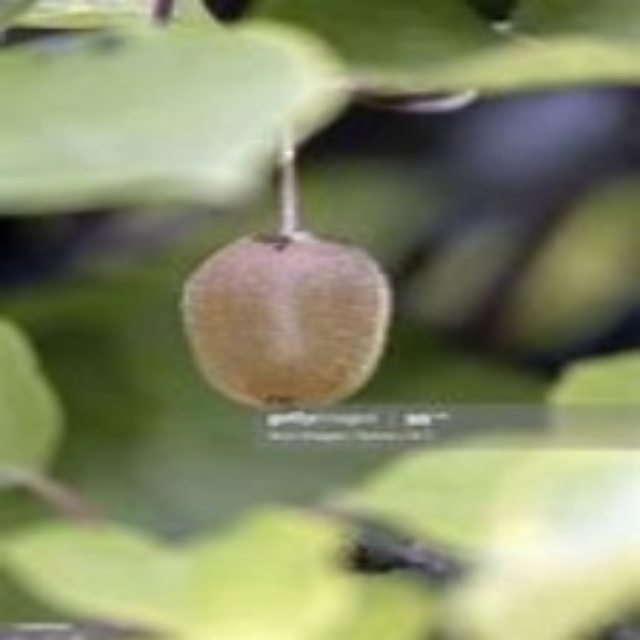kiwi: (184, 221, 403, 422)
